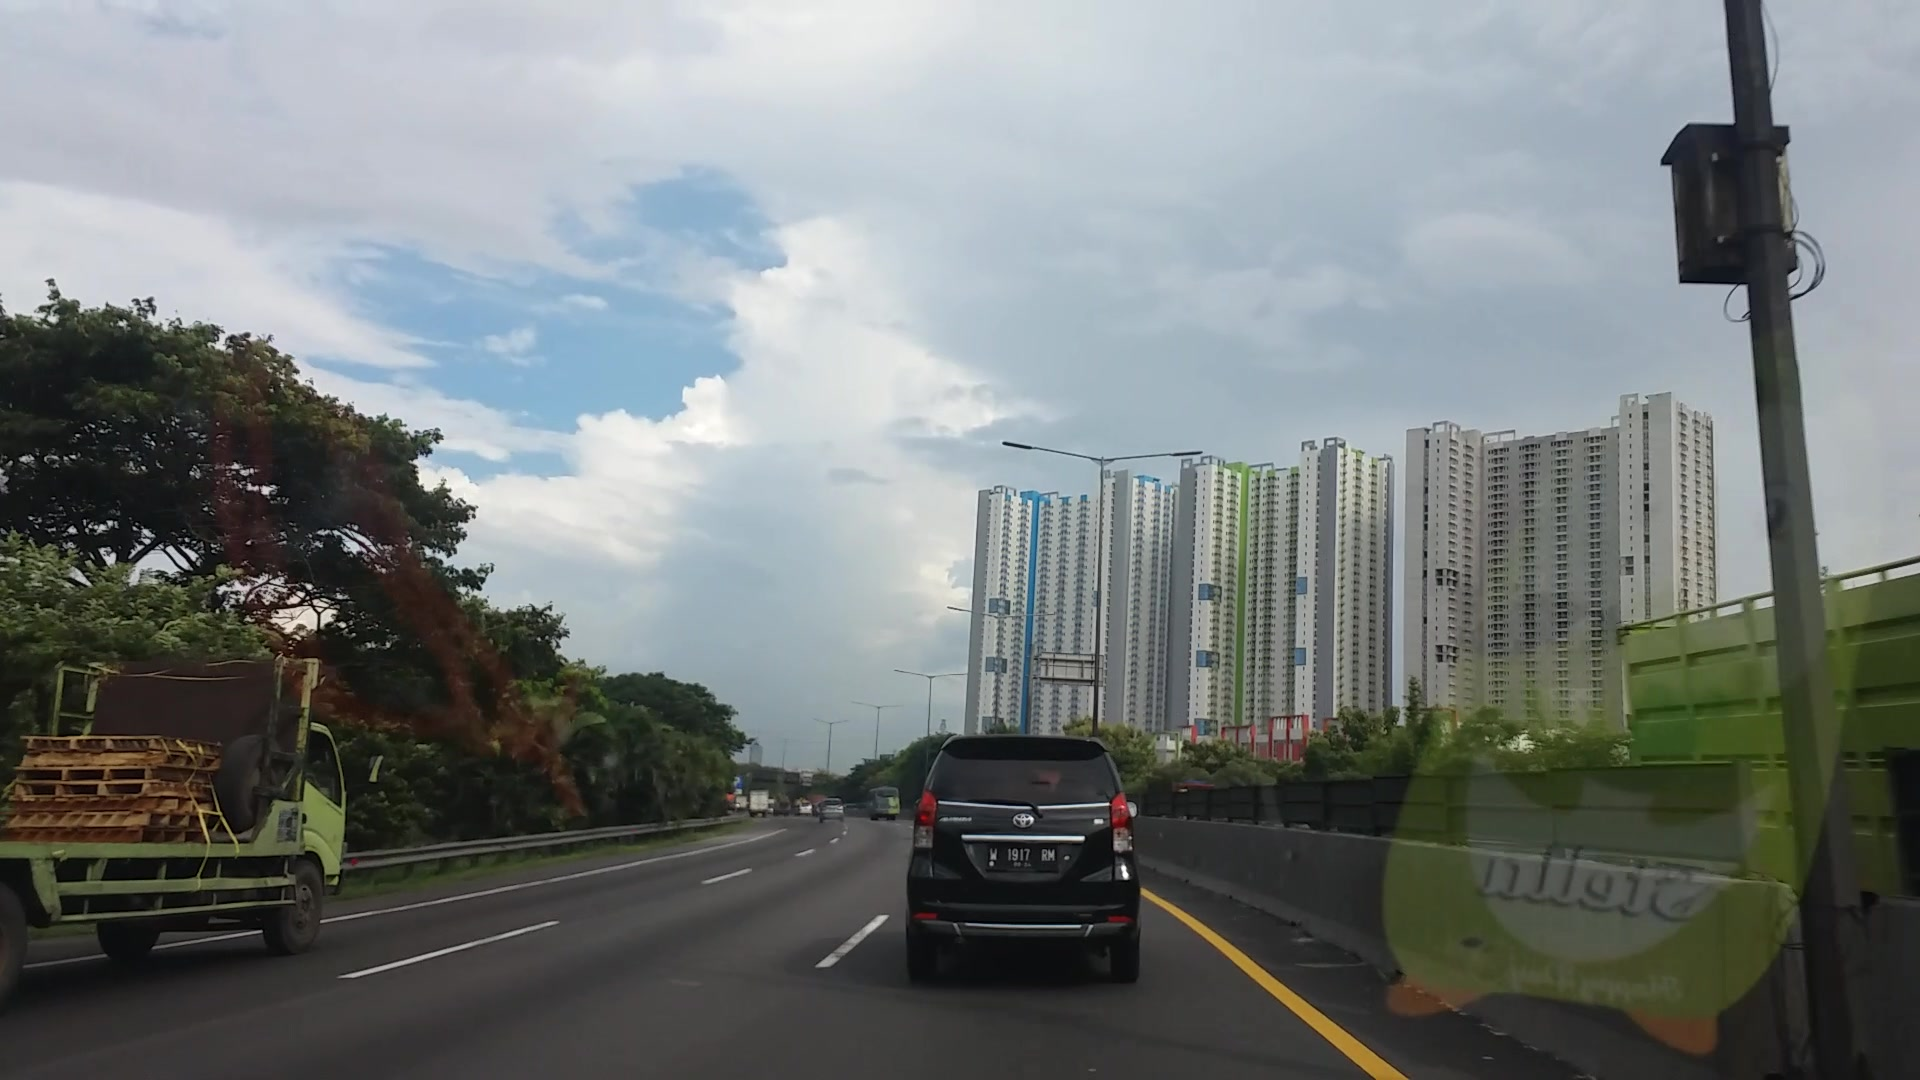plate_positive: (986, 847, 1058, 870)
